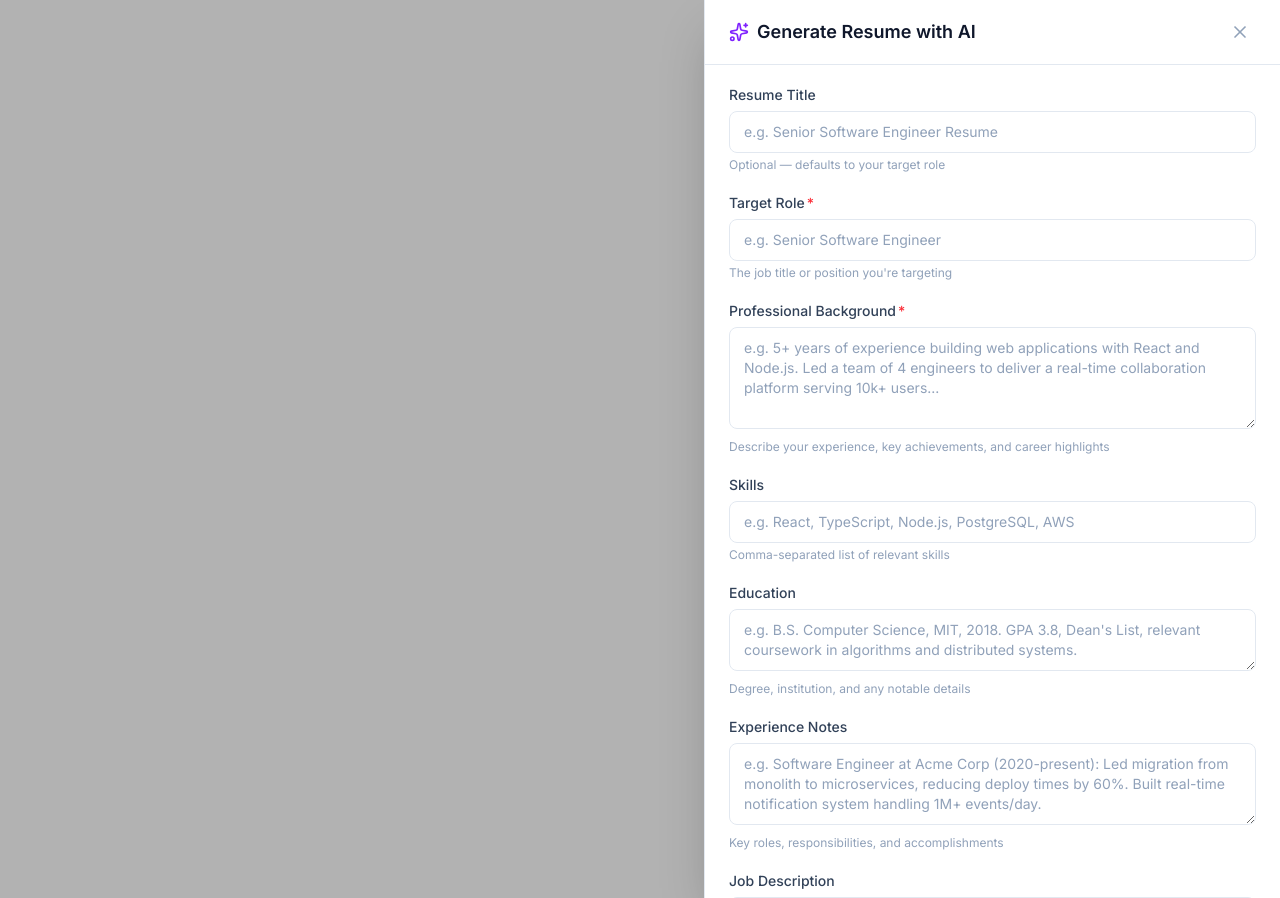
10. Rate-limit error maps safely › shows safe error message for rate limit
The image size is (1280, 898).
Fill in form
In the field labelled "Target Role*": (992,240) x1=729 y1=219 x2=1256 y2=261, type "Engineer"
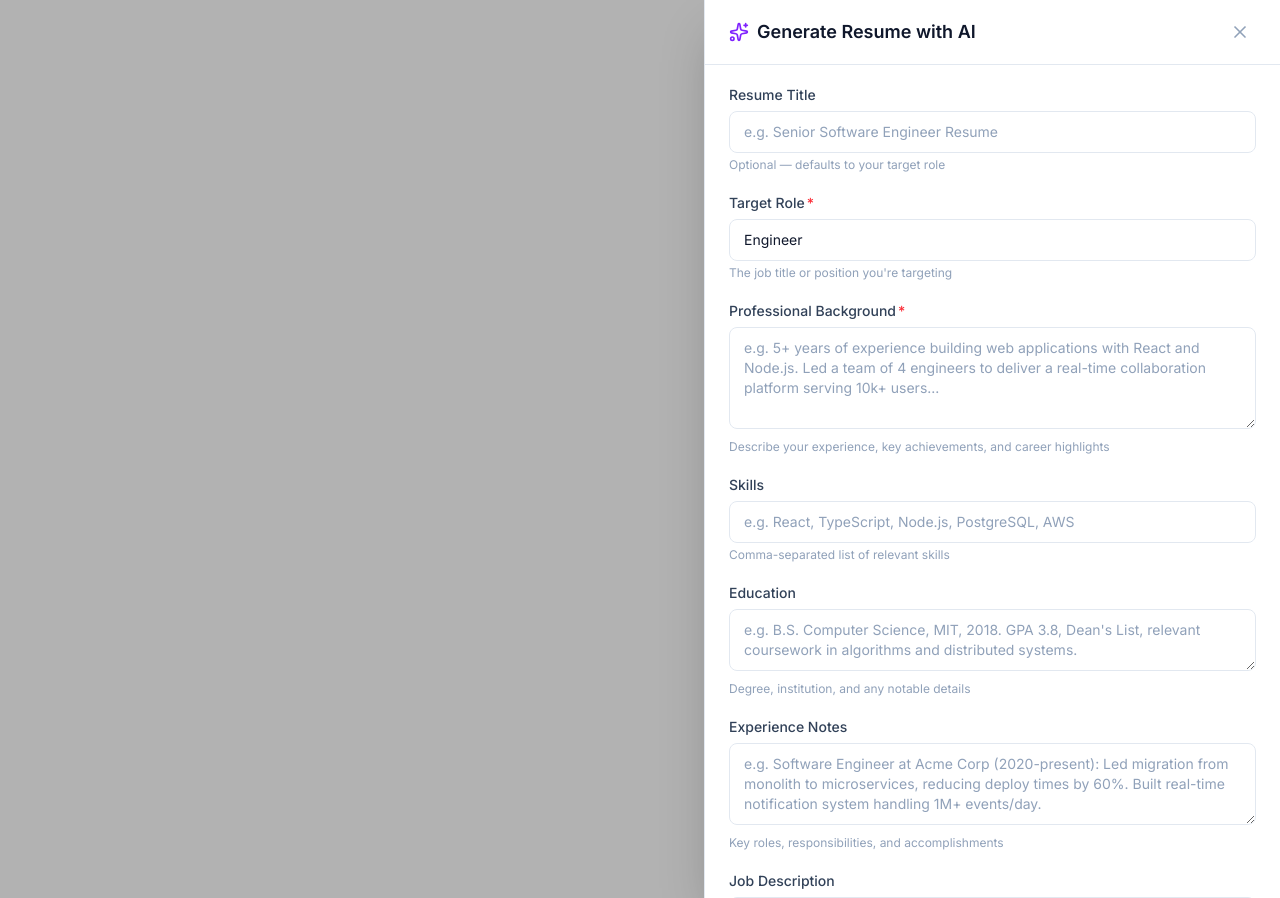
Replace the text in the text box labelled "Professional Background*" with "Experience": (992,378) x1=729 y1=327 x2=1256 y2=429
(page scrolled)
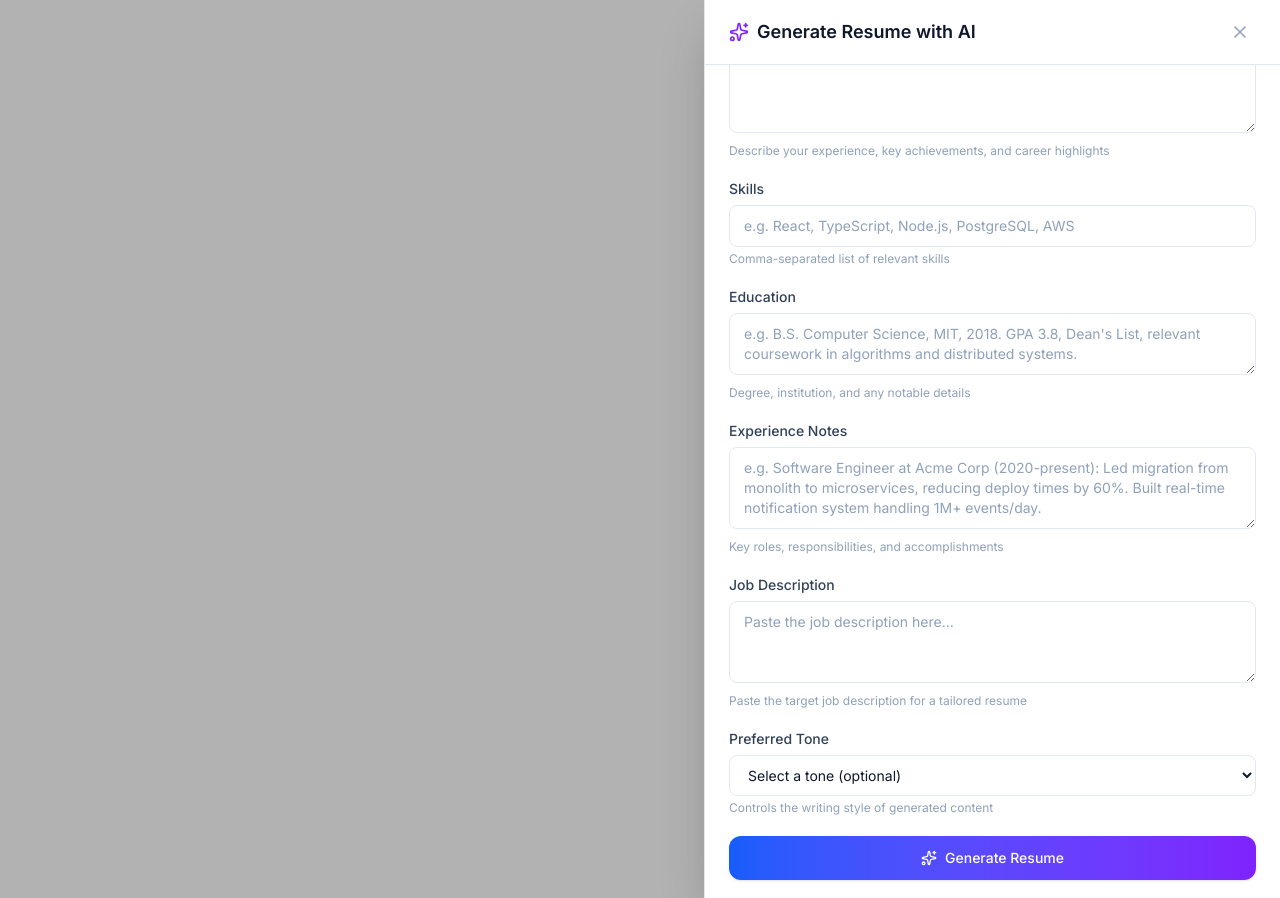
Click the button "Generate Resume": (992,858) x1=729 y1=836 x2=1256 y2=880
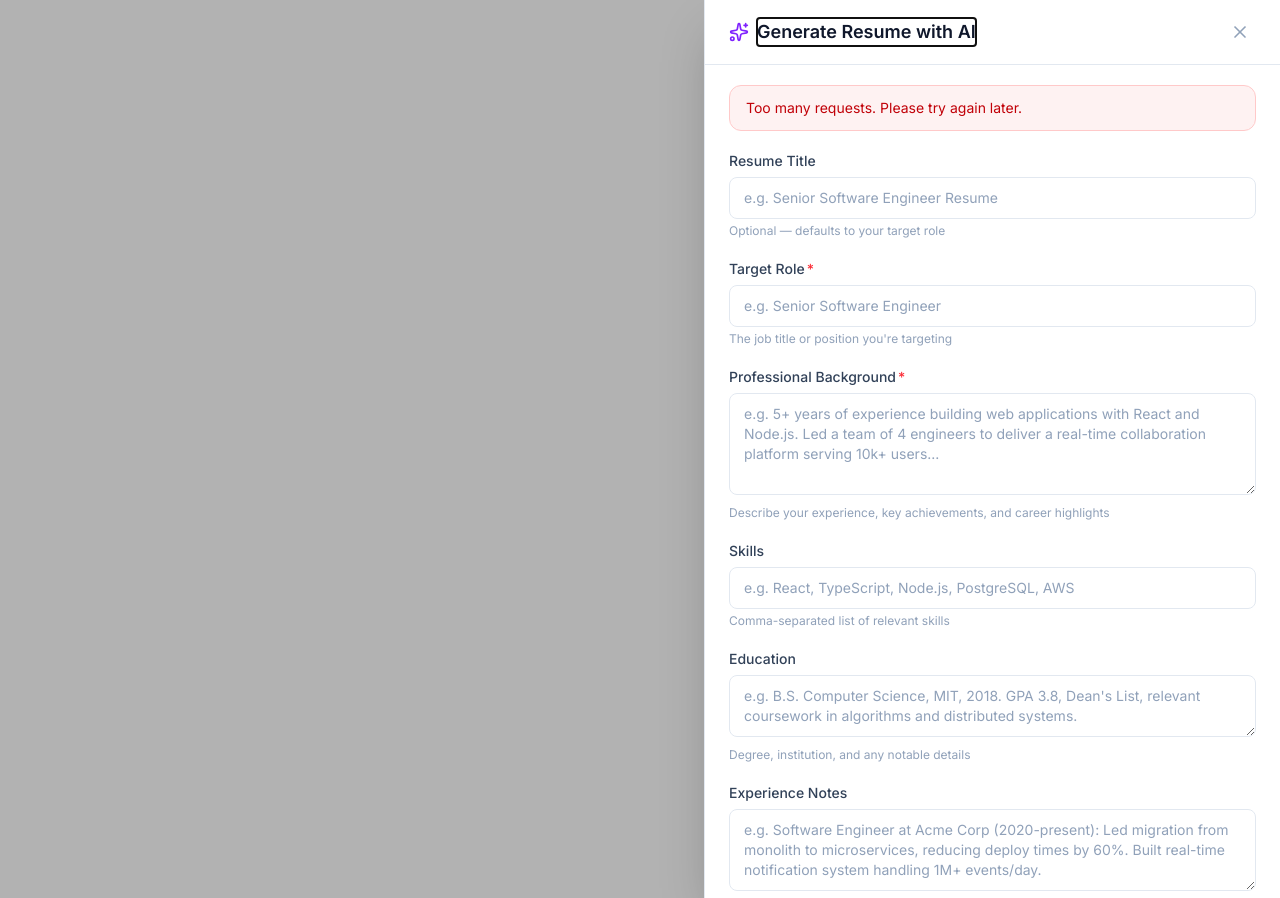
Now the text "Too many requests. Please try again later." is shown, box x1=729 y1=85 x2=1256 y2=131
